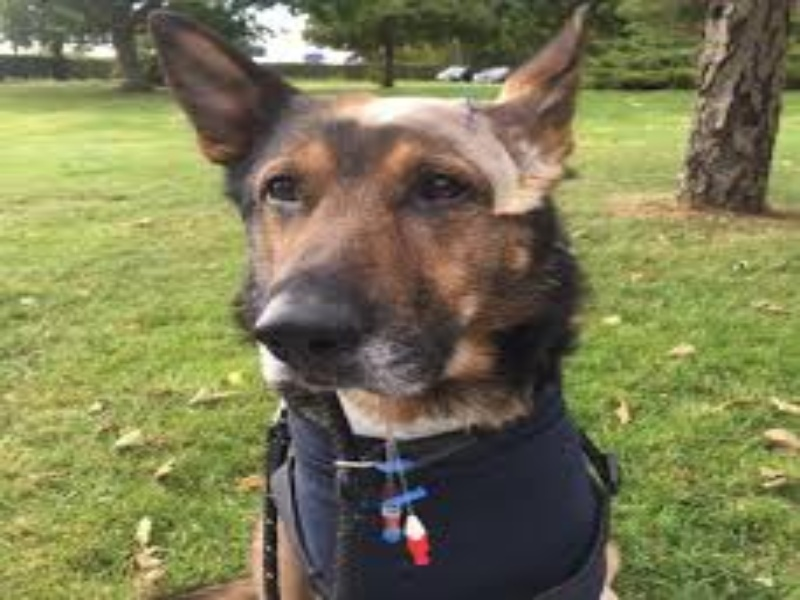dog: (150, 6, 641, 600)
